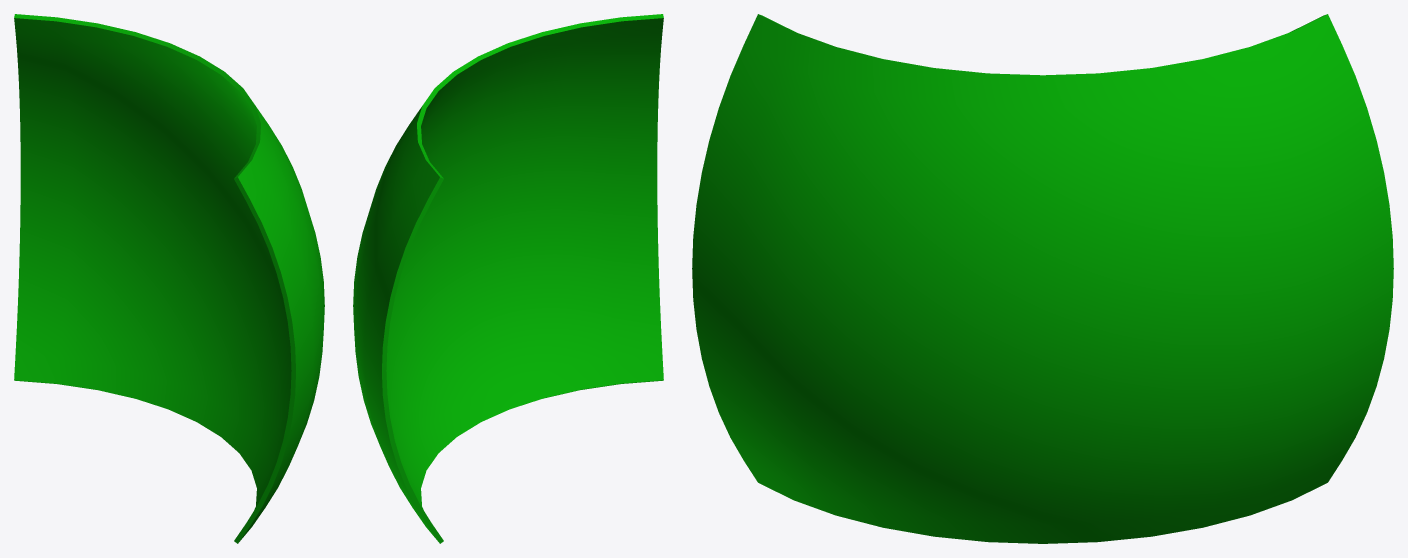
File: Shield.fbx
3 renders of one model, left to right at view 1: azimuth 30°, elevation 25°; view 2: azimuth 150°, elevation 25°; view 3: azimuth 270°, elevation 25°, orthographic. The views are drawn at different scales.
Parts seen in each view (by area): view 1: pSphere1; view 2: pSphere1; view 3: pSphere1.
Boxes of the visible parts, left/top/right/bottom form: pSphere1: left=14, top=14, right=324, bottom=543; pSphere1: left=353, top=14, right=663, bottom=543; pSphere1: left=692, top=14, right=1393, bottom=543.
Size of the model in its own units: 0.5295 by 1.19 by 1.62.
